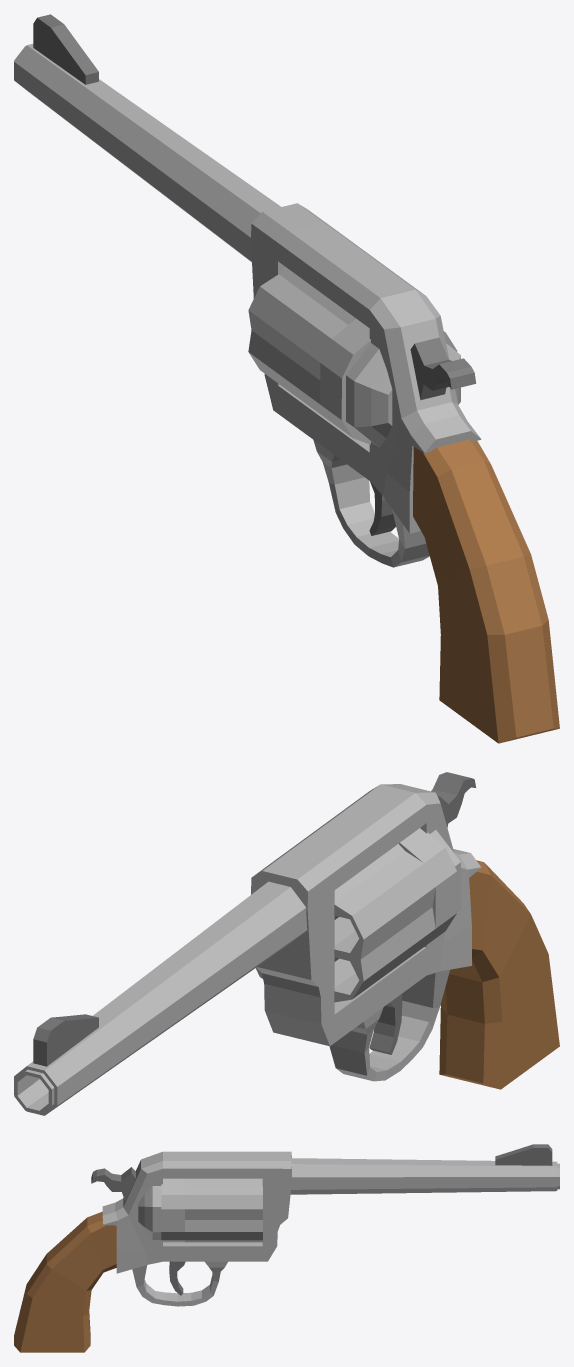
Rendered from Revolver-A-Medium.fbx.
3 views of the same model, one above another, from view 1: azimuth 30°, elevation 25°; view 2: azimuth 150°, elevation 25°; view 3: azimuth 270°, elevation 25° (orthographic). The views are drawn at different scales.
Parts seen in each view (by area): view 1: BigIron.001; view 2: BigIron.001; view 3: BigIron.001.
Part boxes in pixels (box(x1,y1,x2,y2)): BigIron.001: box(14, 14, 559, 743); BigIron.001: box(14, 772, 559, 1115); BigIron.001: box(14, 1144, 559, 1352).
Bounding box in the file's own units: 74.18 × 224 × 559.
